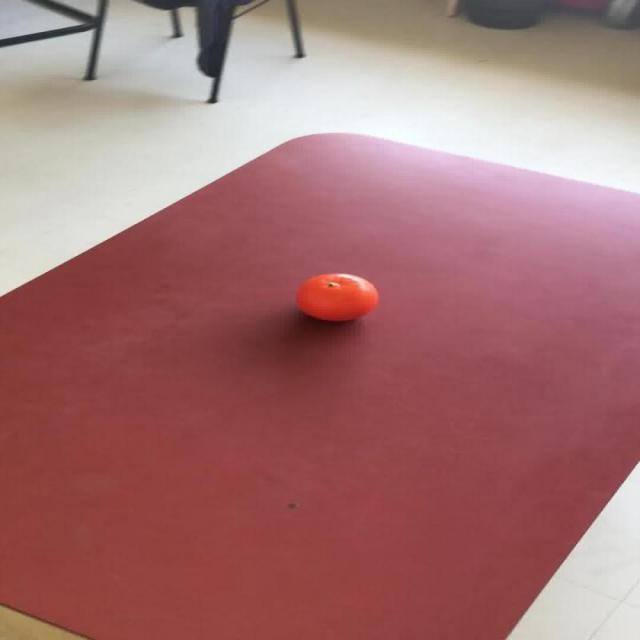Orange: (295, 272, 378, 322)
